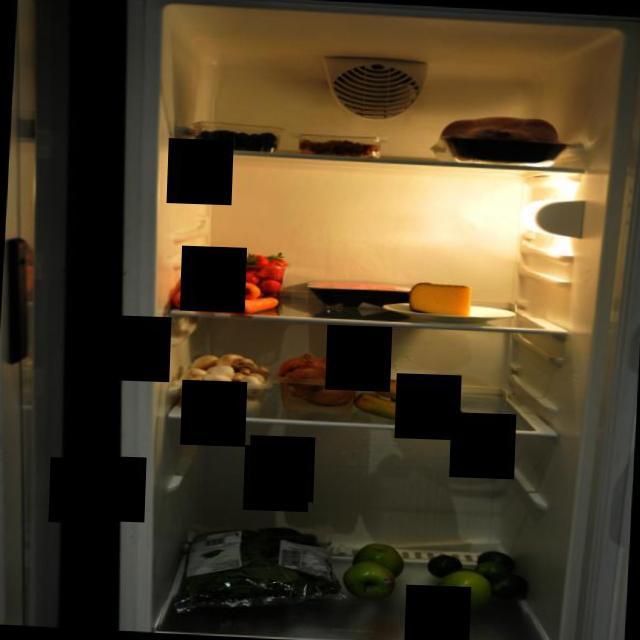Carne pollo: (427, 109, 572, 168)
Cebolla: (272, 342, 367, 410)
Champiñones: (175, 349, 276, 418)
Gambas/Langostinos: (291, 133, 384, 163)
Manzana: (340, 539, 410, 608), (431, 566, 495, 613)
Plátano: (353, 374, 468, 424)
Queso: (404, 279, 476, 318)
Zanahoria: (165, 266, 281, 320)
